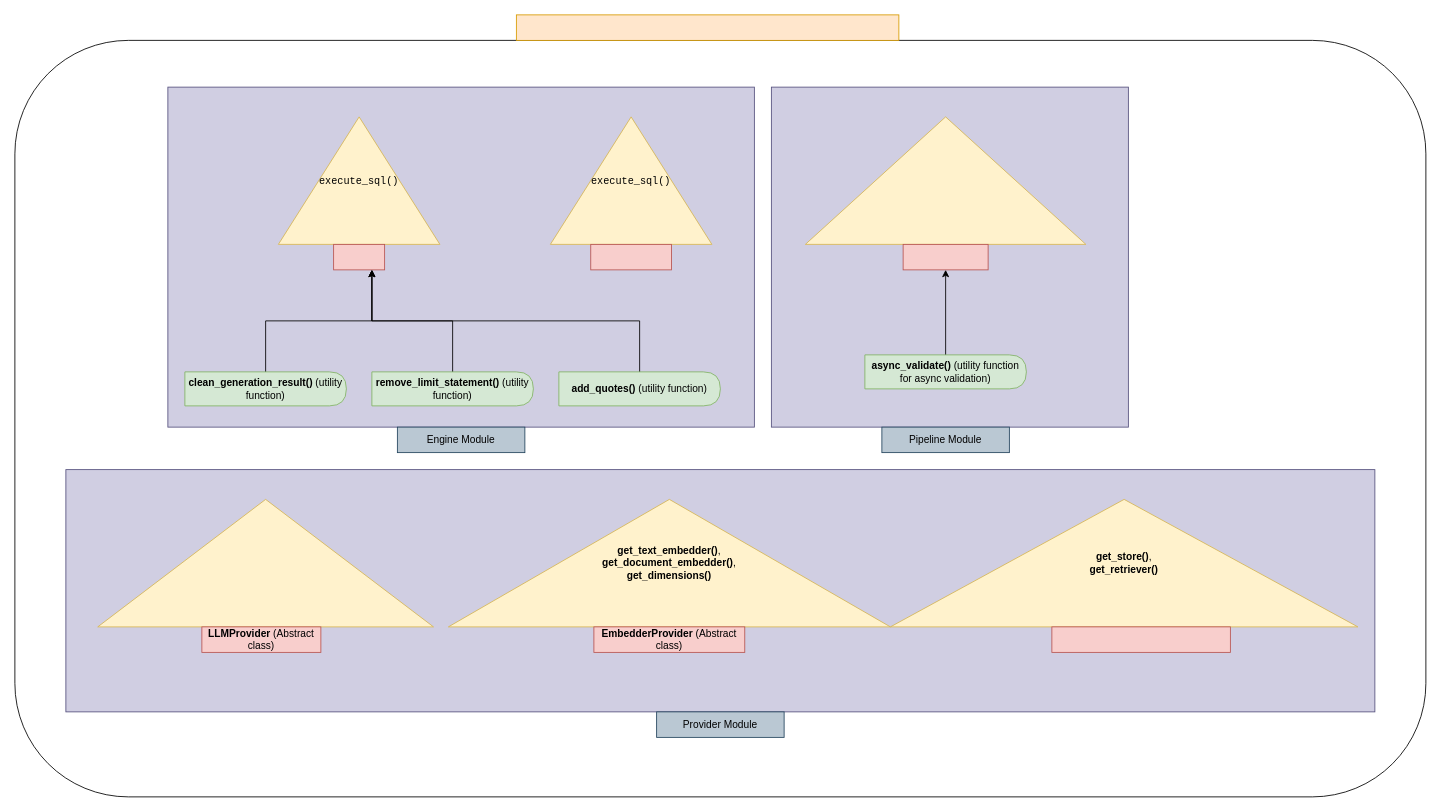
This 1441x812 diagram has some shape labels left out. Here are the shapes that lost their labels. From the top down, the box of each, then its label:
(516, 14, 899, 40): Core Layer
(805, 116, 1086, 244): run() (abstract method)
(333, 244, 385, 270): engine
(590, 244, 672, 270): engineConfig
(902, 244, 988, 270): BasicPipeline
(97, 499, 434, 627): get_generator() , get_model() , get_model_kwargs()
(1051, 626, 1230, 652): DocumentStoreProvider (Abstract class)
